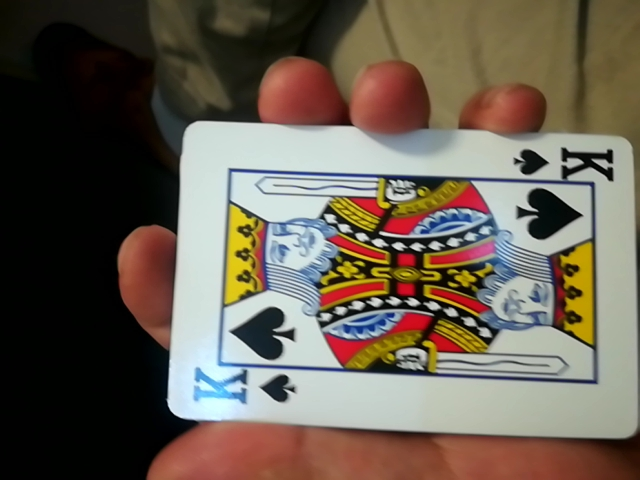ht k: (154, 116, 633, 447)
